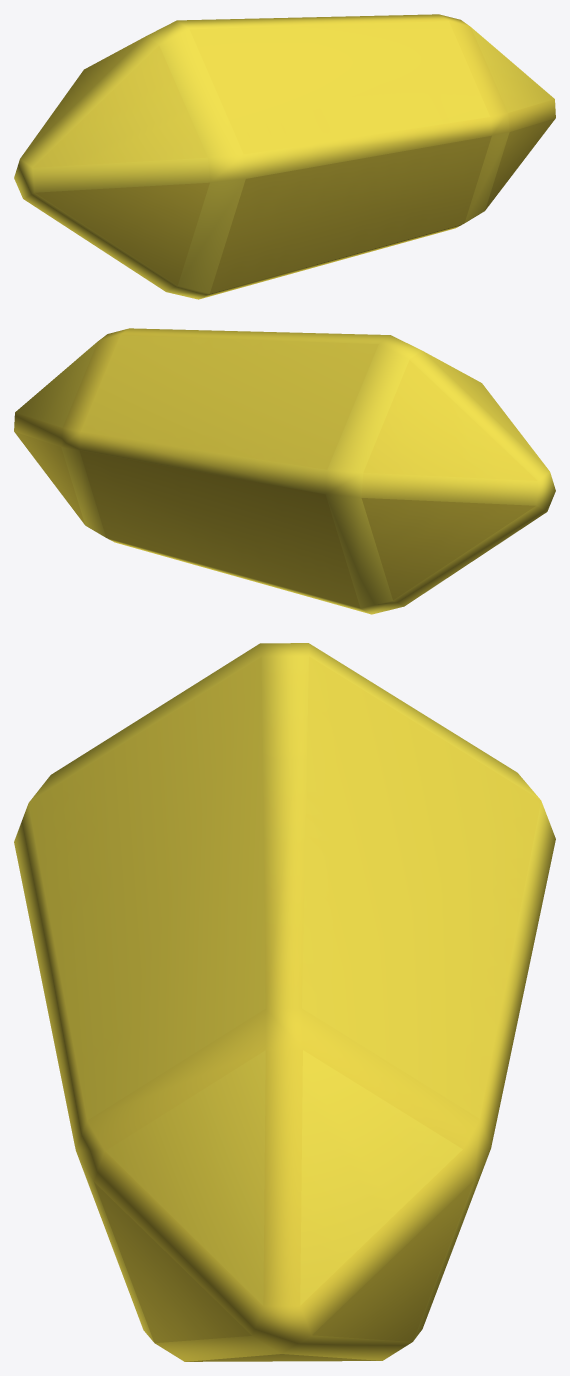
File: christal_topaz_6.fbx
The picture shows the model from 3 angles, top to bottom: view 1: azimuth 30°, elevation 25°; view 2: azimuth 150°, elevation 25°; view 3: azimuth 270°, elevation 25°; orthographic projection. The views are drawn at different scales.
Parts seen in each view (by area): view 1: christal_topaz_6; view 2: christal_topaz_6; view 3: christal_topaz_6.
Part boxes in pixels (left/top/right/bottom): christal_topaz_6: left=14, top=14, right=555, bottom=299; christal_topaz_6: left=14, top=328, right=555, bottom=614; christal_topaz_6: left=14, top=643, right=555, bottom=1361.
Size of the model in its own units: 67.5 by 29.59 by 31.25.
Materials: 1 (1 with a texture image).
